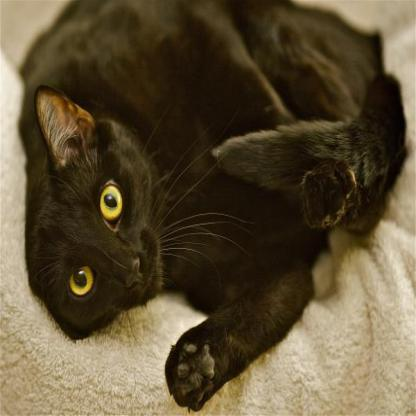cat: (23, 0, 407, 411)
